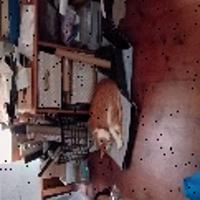asleep: (89, 77, 123, 158)
